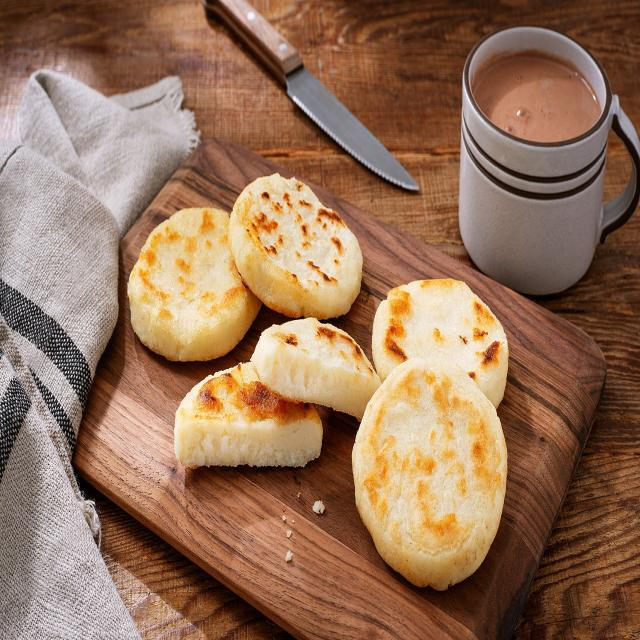arepa: (343, 353, 513, 592), (226, 162, 365, 328), (127, 202, 266, 364)
